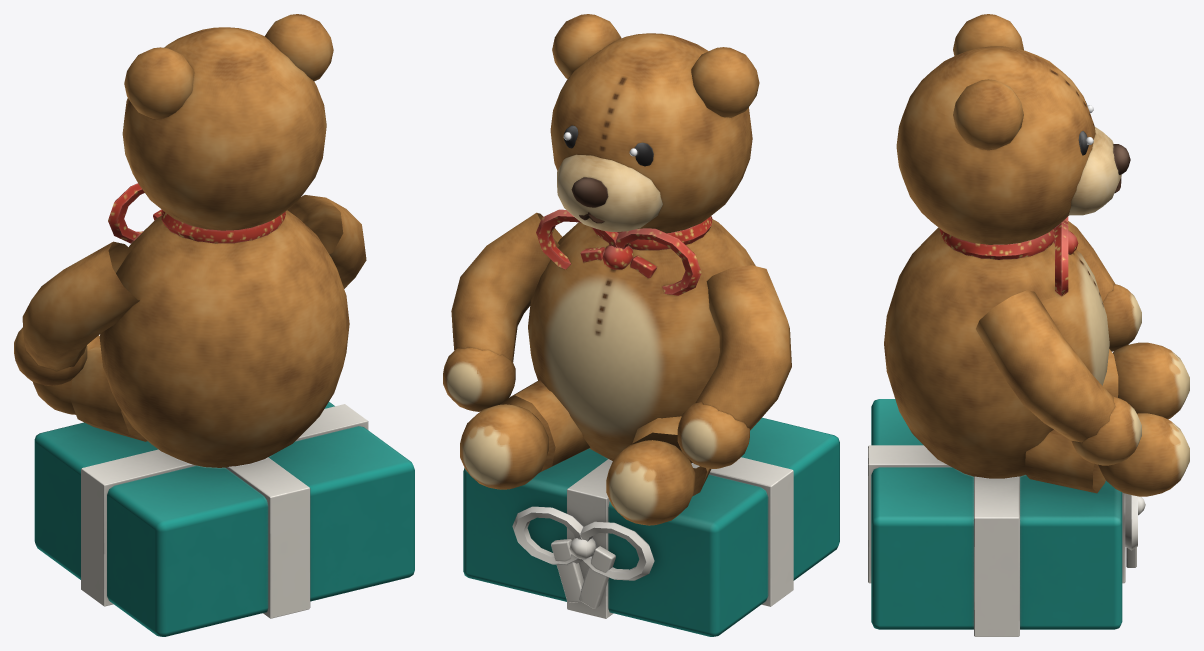
The model's file is giant-teddy.fbx.
3 renders of one model, left to right at view 1: azimuth 30°, elevation 25°; view 2: azimuth 150°, elevation 25°; view 3: azimuth 270°, elevation 25°, orthographic. The views are drawn at different scales.
Visible parts, largest first — view 1: Body; view 2: Body; view 3: Body.
Boxes of the visible parts, x1,y1,x2,y2 form: Body: (14,14,414,636); Body: (443,14,839,636); Body: (868,14,1189,636).
Size of the model in its own units: 0.8927 by 1.38 by 0.7697.
